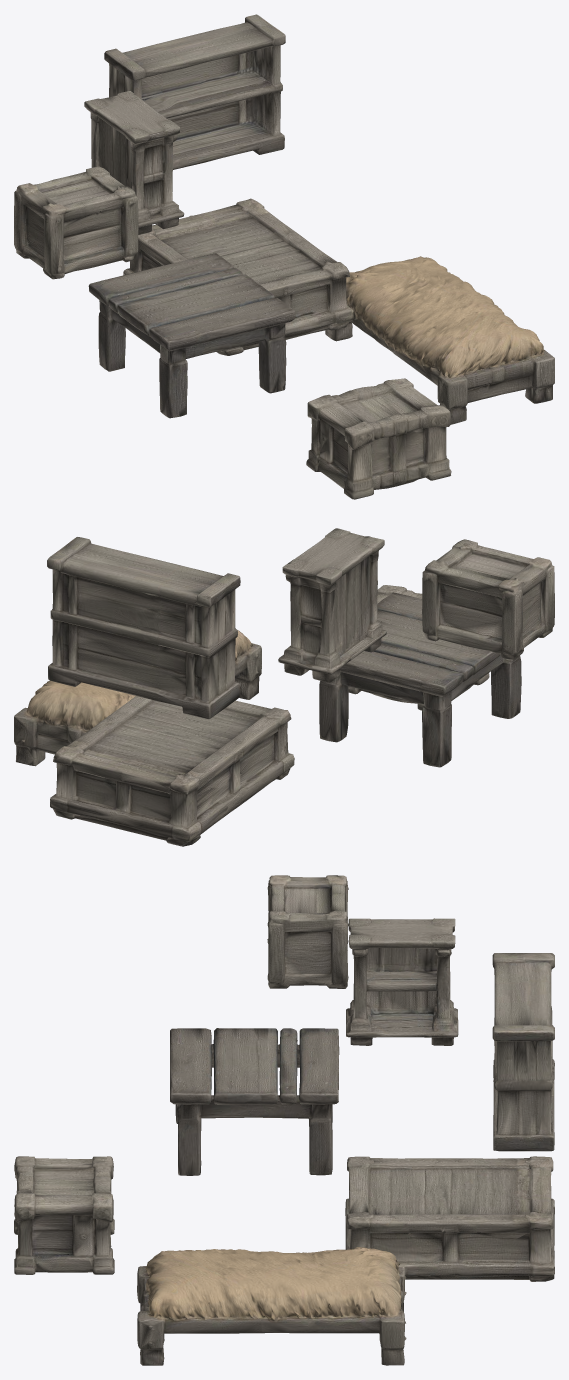
The model's file is furniture_sheet_rustic_a.glb.
The picture shows the model from 3 angles, top to bottom: view 1: azimuth 30°, elevation 25°; view 2: azimuth 150°, elevation 25°; view 3: azimuth 270°, elevation 25°; orthographic projection. The views are drawn at different scales.
Size of the model in its own units: 1.9 by 1.09 by 1.9.
1 material, 1 textured.
